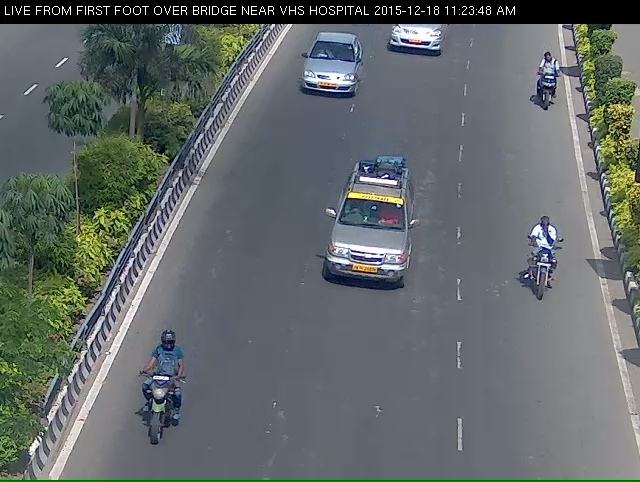Car: (315, 170, 418, 319), (289, 33, 363, 113), (384, 23, 448, 67)
Person: (118, 358, 176, 473), (519, 222, 566, 323), (528, 47, 571, 114)
